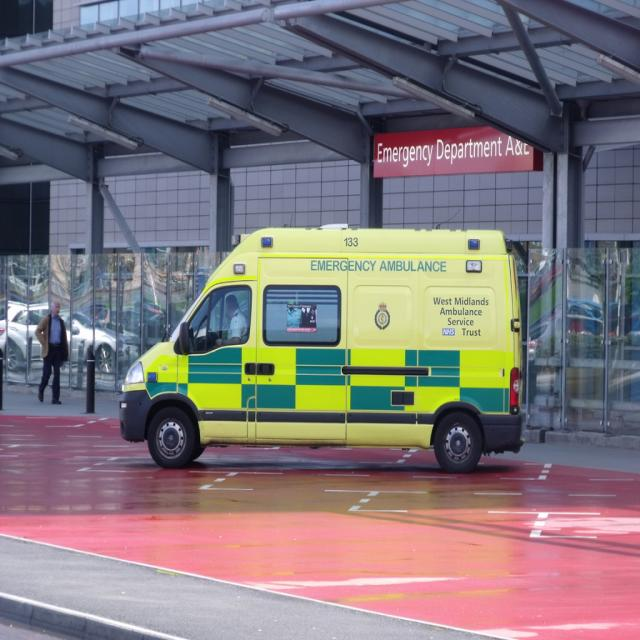Ambulance: (116, 226, 525, 474)
